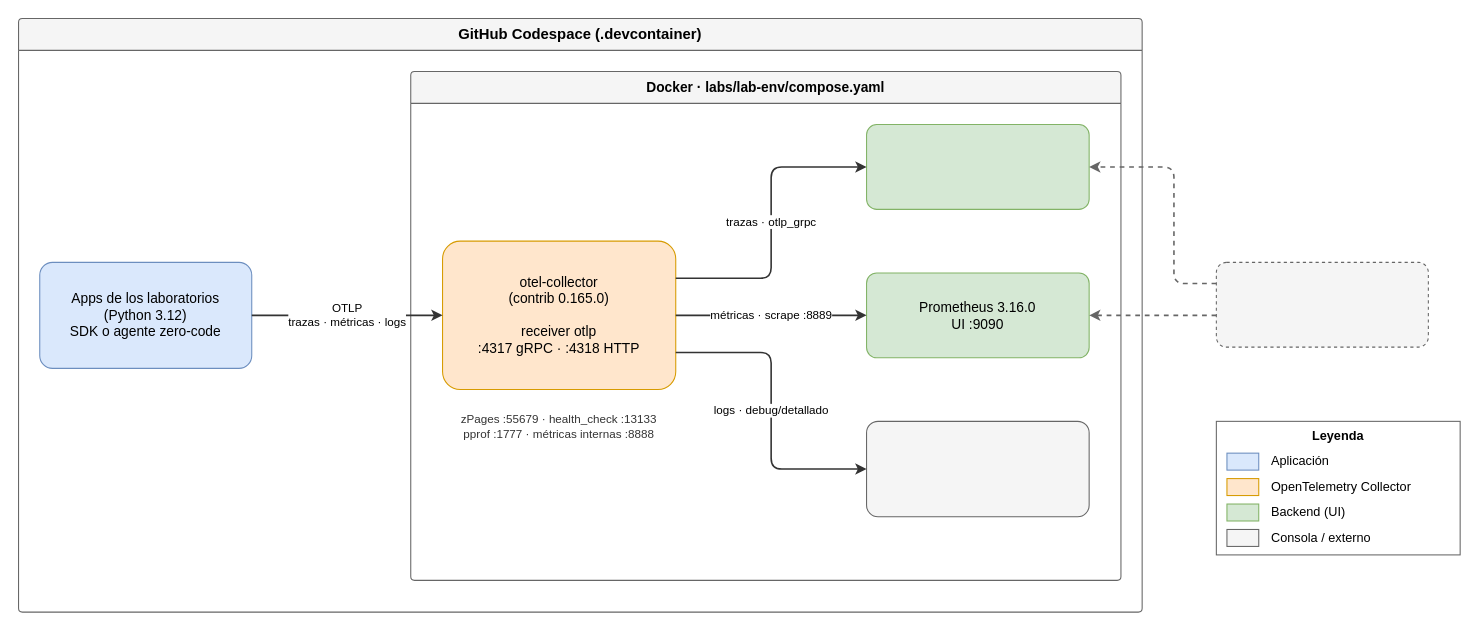
Some shapes in this 1479 by 631 pixel diagram are drawn without their labels. The shapes that lost their labels are listed below. From the top down, each one's centre as x and y in pixels, then its label:
At (977,166): "Jaeger 2.23.0 UI :16686".
At (1321,304): "Tu navegador vía reenvío de puertos (pestaña PORTS)".
At (977,468): "Exporter debug (logs en la consola del Collector: docker logs otel-collector)".
